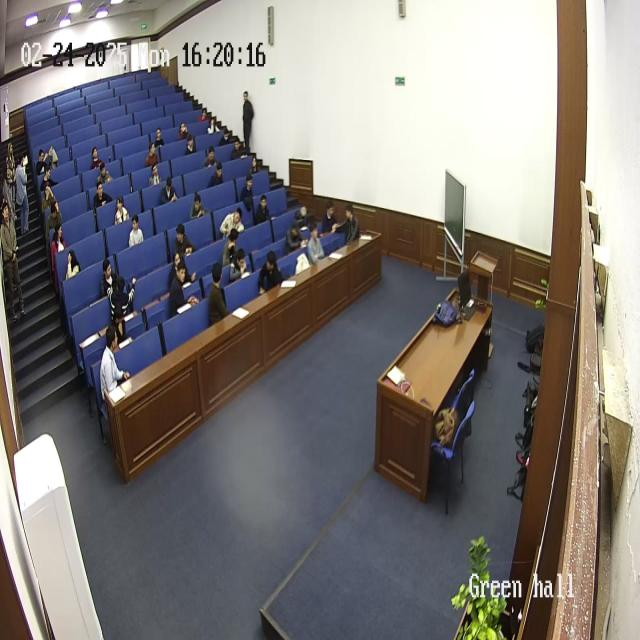person: (0, 201, 24, 319), (99, 324, 131, 404), (110, 278, 137, 340), (14, 152, 32, 235), (168, 263, 194, 318), (208, 262, 230, 326), (50, 222, 68, 294), (257, 251, 283, 293), (170, 250, 197, 290), (4, 142, 18, 214), (338, 204, 361, 243), (172, 223, 194, 261), (219, 206, 245, 238), (284, 219, 307, 255), (222, 228, 242, 268), (100, 259, 118, 303), (307, 221, 325, 264), (228, 249, 250, 284), (242, 90, 254, 154), (320, 200, 338, 236), (254, 193, 274, 225), (240, 175, 256, 212), (93, 180, 112, 210), (128, 215, 144, 248), (64, 249, 80, 281), (114, 195, 130, 225), (190, 191, 206, 219), (208, 160, 224, 188), (162, 177, 178, 204), (145, 138, 159, 167), (96, 162, 112, 186), (202, 145, 218, 169), (89, 146, 103, 170), (37, 147, 48, 174), (49, 204, 61, 227), (43, 169, 56, 188), (176, 120, 188, 140), (187, 134, 197, 158), (232, 142, 244, 160), (151, 164, 161, 185), (43, 186, 53, 204), (220, 130, 230, 146), (208, 120, 218, 136), (198, 108, 208, 124), (156, 128, 163, 148), (250, 152, 256, 174)
